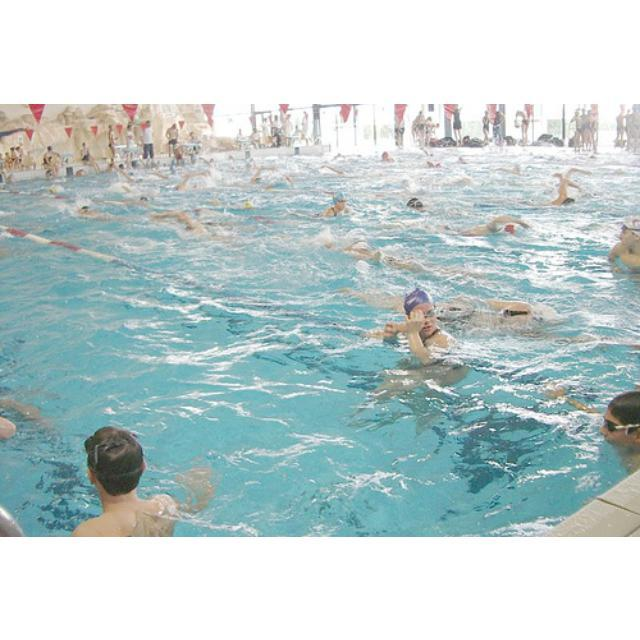human: (67, 420, 195, 536), (387, 284, 448, 360), (603, 384, 640, 472), (538, 166, 586, 208), (609, 216, 639, 280), (461, 216, 531, 239), (329, 192, 349, 218)
